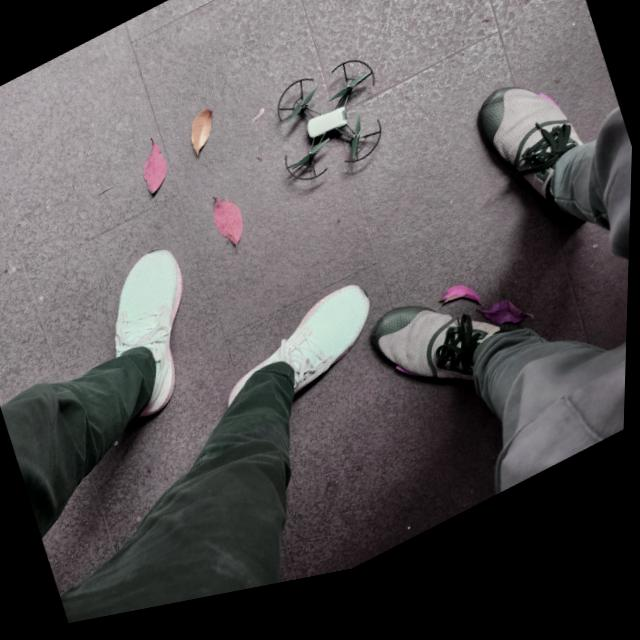drone: (279, 74, 383, 192)
